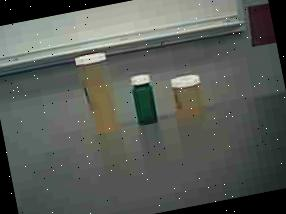Bottle A: (69, 44, 130, 142)
Bottle B: (164, 68, 212, 126)
Bottle C: (124, 67, 165, 130)
